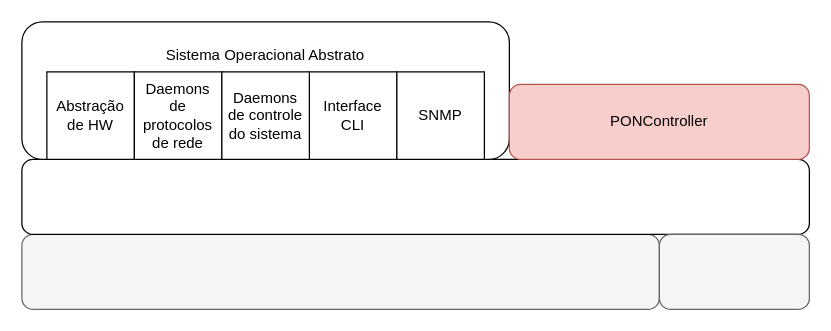
The diagram is 831 pixels wide and 331 high, and some of its shapes have lost their labels. The shapes that lost their labels are listed below. From the top down, each one's centre as x and y in pixels, then its label:
At point (415, 196): "Sistema Operacional (Linux)".
At point (340, 271): "Processador".
At point (733, 271): "Chipsets de rede".
